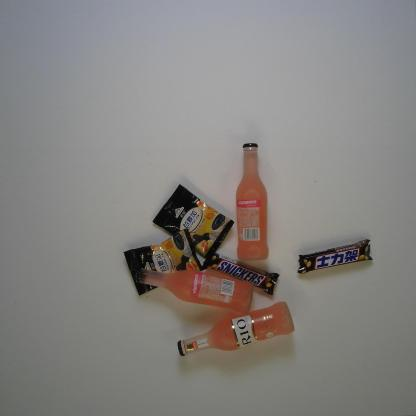Alcohol: (177, 300, 295, 358), (135, 266, 254, 314), (234, 142, 270, 262)
Chocolate: (206, 252, 280, 296), (296, 239, 374, 275)
Instant Drink: (152, 183, 236, 261), (122, 227, 204, 297)
